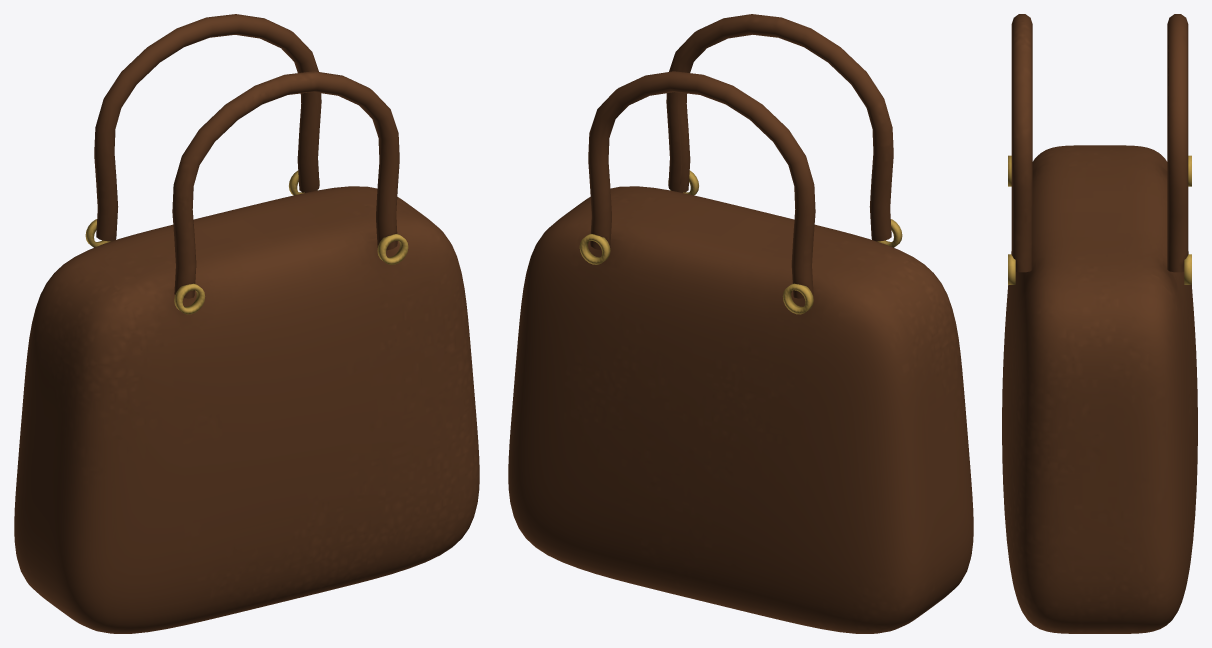
File: tote-cognac.glb
The picture shows the model from 3 angles, left to right: view 1: azimuth 30°, elevation 25°; view 2: azimuth 150°, elevation 25°; view 3: azimuth 270°, elevation 25°; orthographic projection.
Visible parts, largest first — view 1: leather_primary, gold_hw; view 2: leather_primary, gold_hw; view 3: leather_primary, gold_hw.
Boxes of the visible parts, bbox=[...] form: leather_primary: bbox=[14, 14, 479, 633]; gold_hw: bbox=[85, 170, 408, 314]; leather_primary: bbox=[508, 14, 973, 633]; gold_hw: bbox=[579, 170, 902, 314]; leather_primary: bbox=[1002, 14, 1197, 633]; gold_hw: bbox=[1008, 155, 1191, 284].
Bounding box in the file's own units: 0.367 × 0.4543 × 0.1512.
Materials: 2 (2 with a texture image).
